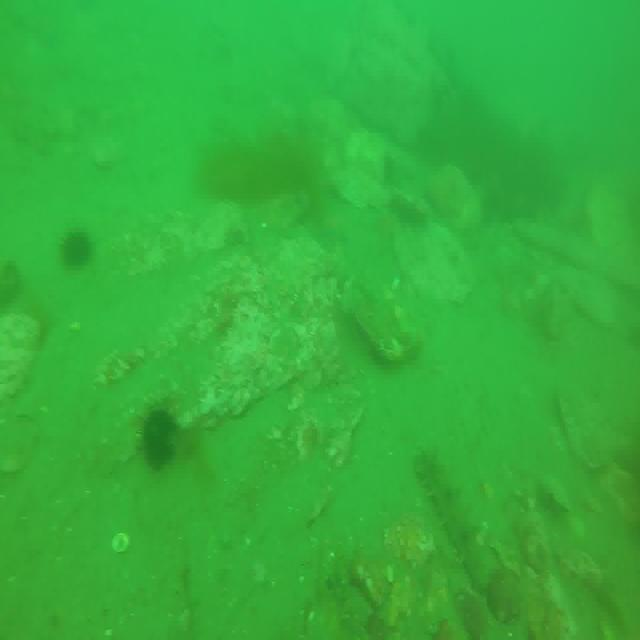echinus: (144, 408, 180, 471), (63, 230, 96, 267)
holothurian: (412, 442, 493, 591)
